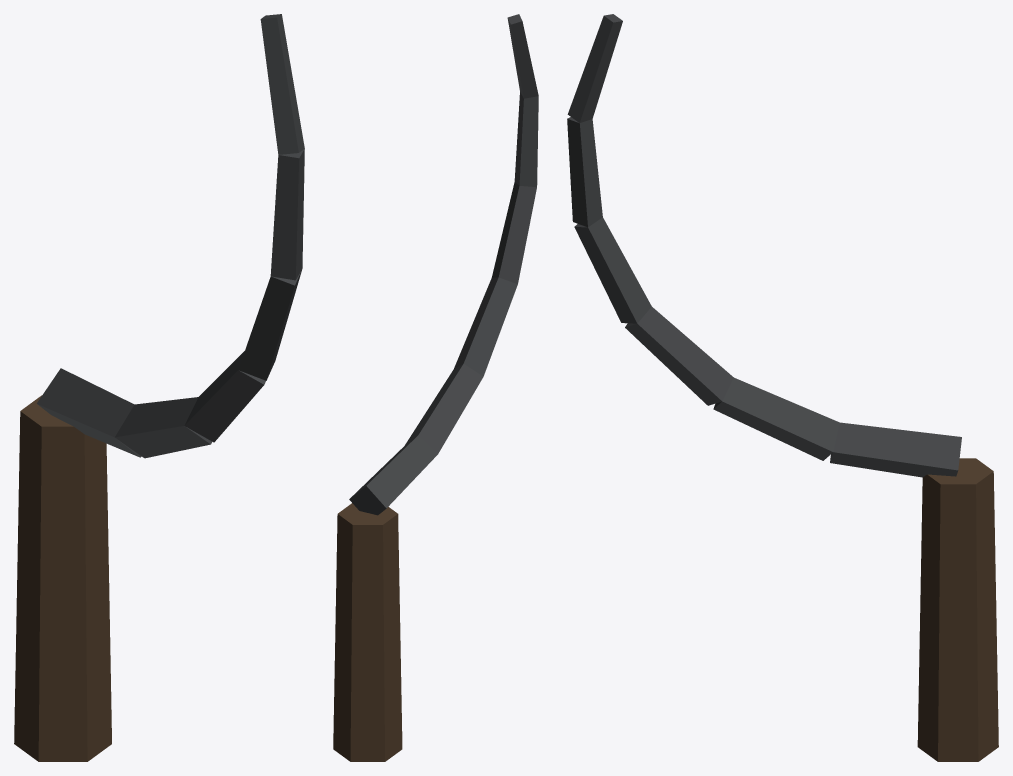
The model's file is rice_sickle.glb.
3 views of the same model, side by side, from view 1: azimuth 30°, elevation 25°; view 2: azimuth 150°, elevation 25°; view 3: azimuth 270°, elevation 25° (orthographic). The views are drawn at different scales.
Visible parts, largest first — view 1: rice_sickle; view 2: rice_sickle; view 3: rice_sickle.
Part boxes in pixels (x1=…): rice_sickle: x1=14, y1=14, x2=304, y2=761; rice_sickle: x1=333, y1=14, x2=538, y2=761; rice_sickle: x1=567, y1=14, x2=998, y2=761.
Bounding box in the file's own units: 0.0277 × 0.3182 × 0.1702.
1 material, 1 textured.
